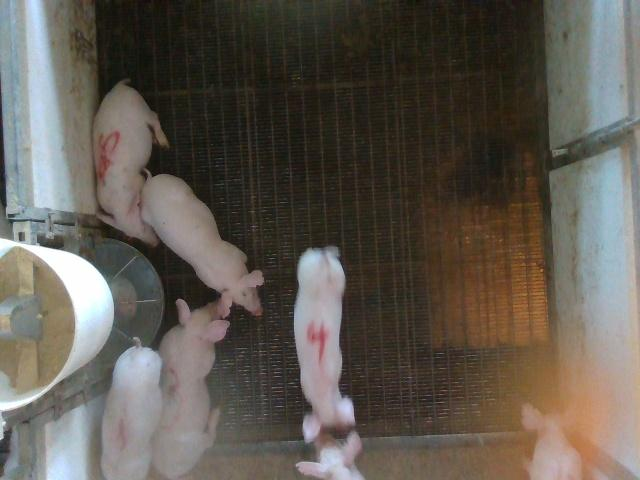pig-1: (101, 338, 162, 479)
pig-3: (152, 299, 229, 478)
pig-4: (293, 246, 355, 443)
pig-5: (94, 80, 169, 246)
